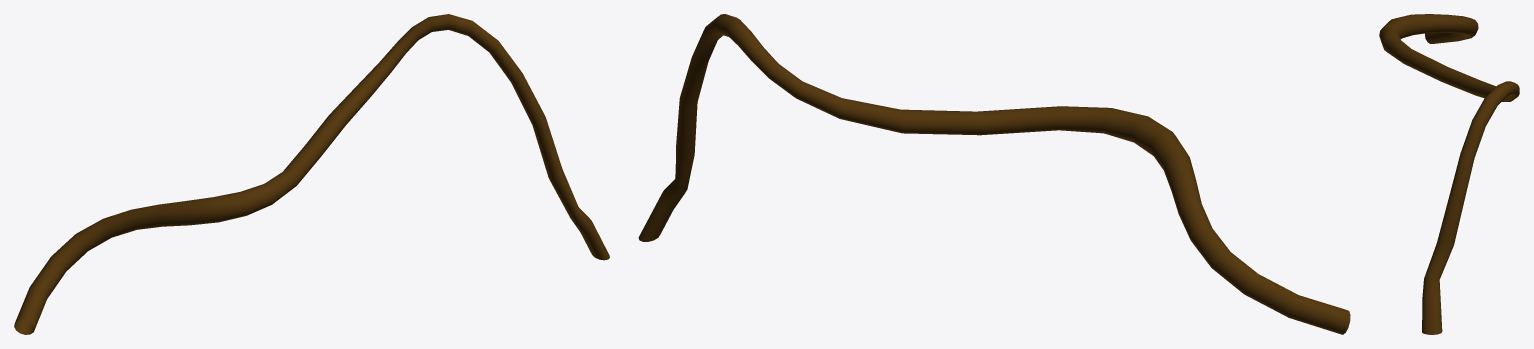
The model's file is Vine09.fbx.
The picture shows the model from 3 angles, left to right: view 1: azimuth 30°, elevation 25°; view 2: azimuth 150°, elevation 25°; view 3: azimuth 270°, elevation 25°; orthographic projection. The views are drawn at different scales.
Visible parts, largest first — view 1: BezierCurve.003; view 2: BezierCurve.003; view 3: BezierCurve.003.
Boxes of the visible parts, x1,y1,x2,y2 form: BezierCurve.003: (14,14,609,334); BezierCurve.003: (638,14,1350,334); BezierCurve.003: (1379,14,1519,334).
Bounding box in the file's own units: 449 × 173 × 109.
